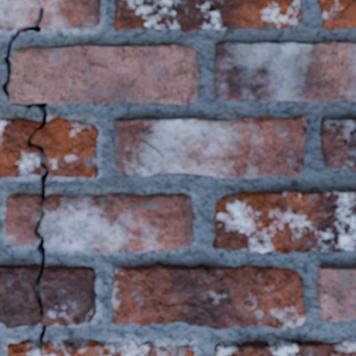brick: (112, 263, 305, 328), (116, 117, 306, 177), (9, 44, 198, 103), (213, 190, 355, 253), (214, 42, 355, 101), (115, 0, 300, 30), (214, 340, 355, 355), (317, 266, 355, 321), (321, 118, 355, 170), (319, 0, 355, 29)
broken_brick: (39, 192, 194, 254), (32, 115, 98, 178), (40, 265, 97, 327), (0, 263, 39, 328), (0, 118, 41, 178), (44, 340, 194, 355), (4, 192, 39, 246), (41, 0, 100, 29), (0, 0, 38, 31), (6, 339, 39, 355)
crack: (0, 0, 50, 355), (151, 298, 212, 322), (215, 79, 224, 89), (194, 323, 201, 326)
